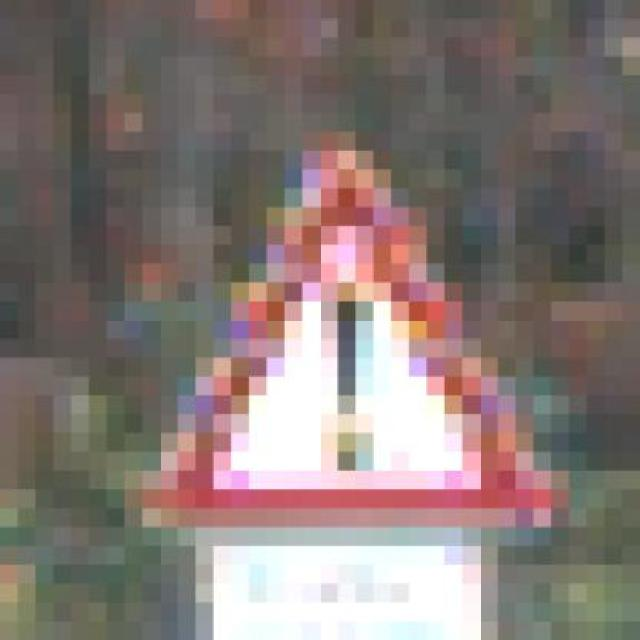Attention Please-: (106, 132, 605, 546)
